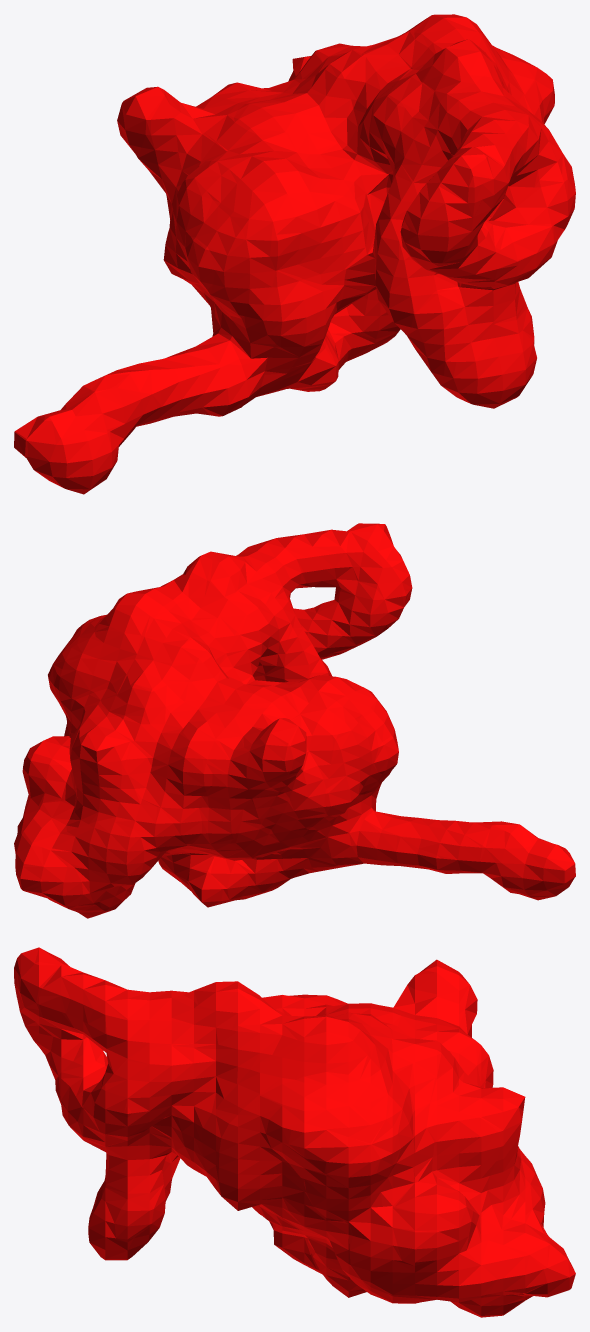
File: rodZ_coarse.dae
The picture shows the model from 3 angles, top to bottom: view 1: azimuth 30°, elevation 25°; view 2: azimuth 150°, elevation 25°; view 3: azimuth 270°, elevation 25°; orthographic projection. The views are drawn at different scales.
Visible parts, largest first — view 1: rodZ; view 2: rodZ; view 3: rodZ.
Part boxes in pixels (box(x1,y1,x2,y2)): rodZ: box(14, 14, 575, 494); rodZ: box(14, 523, 575, 918); rodZ: box(14, 947, 575, 1317).
Size of the model in its own units: 88.43 by 52.47 by 79.33.
